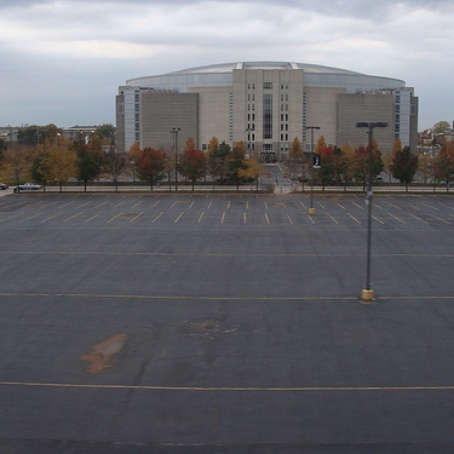building: (118, 53, 412, 152)
light pole: (354, 115, 390, 306), (304, 122, 324, 216)
sky: (1, 1, 454, 87)
vegetation: (1, 133, 454, 190)
